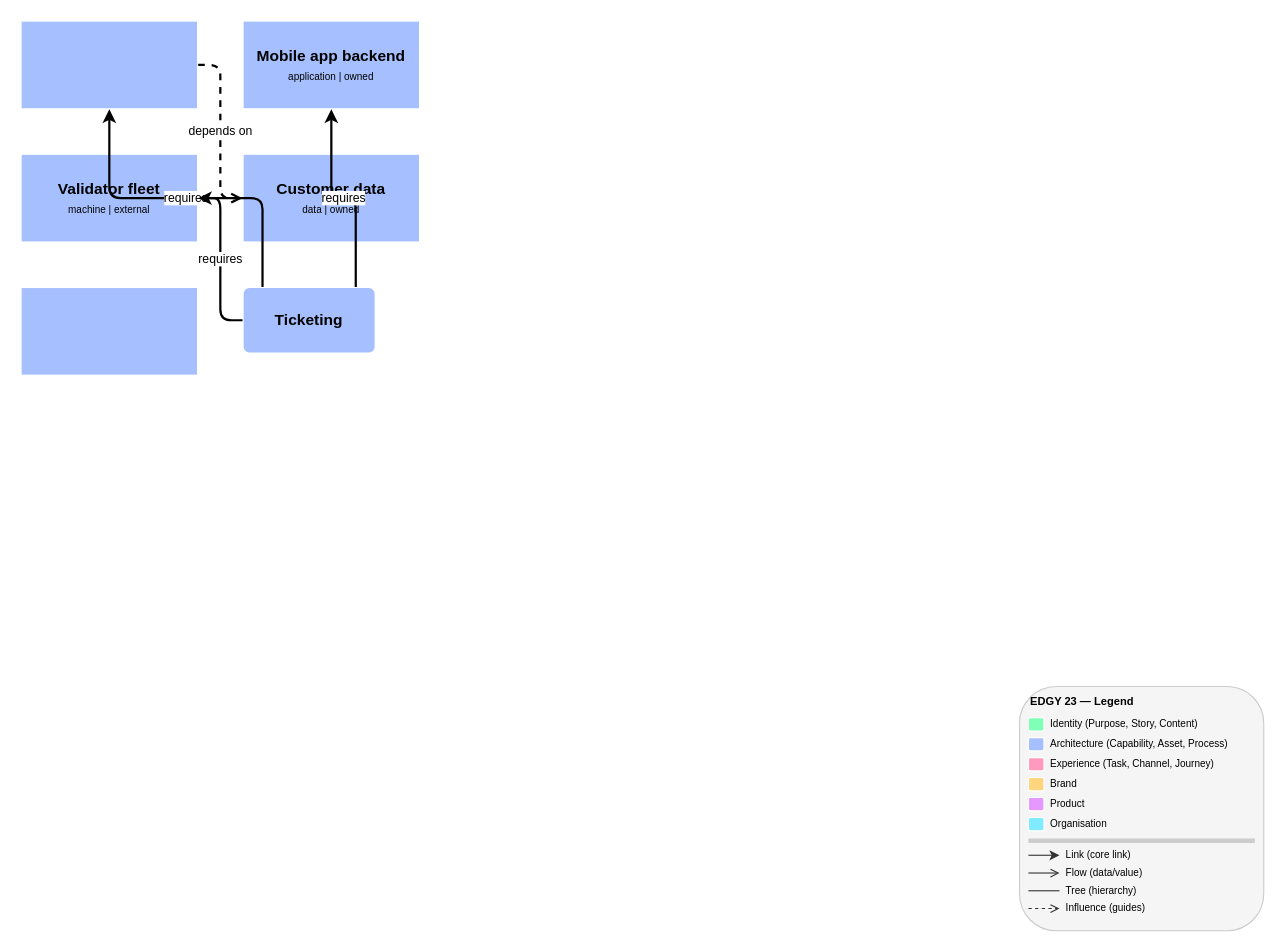
The diagram is 1283 pixels wide and 950 high, and some of its shapes have lost their labels. The shapes that lost their labels are listed below. From the top down, each one's centre as x and y in pixels, then its label:
(109,64): Fare engine application | owned
(109,330): Identity provider application | external
